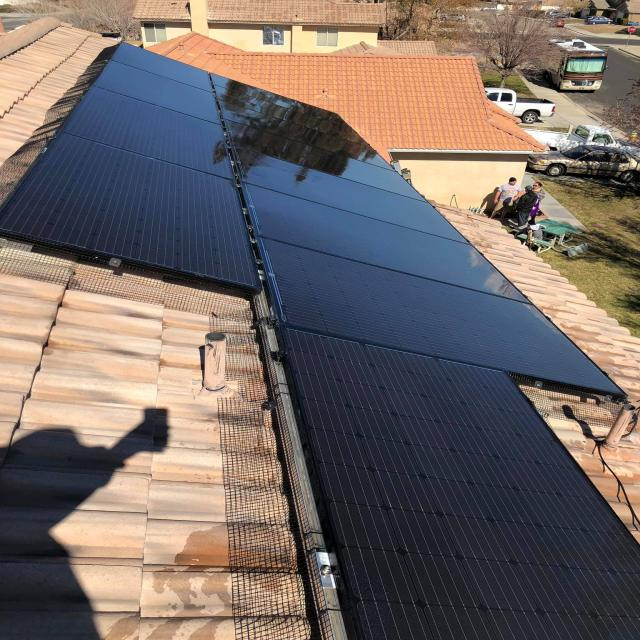clean-solar-panel: (2, 45, 620, 394), (283, 329, 638, 640)
